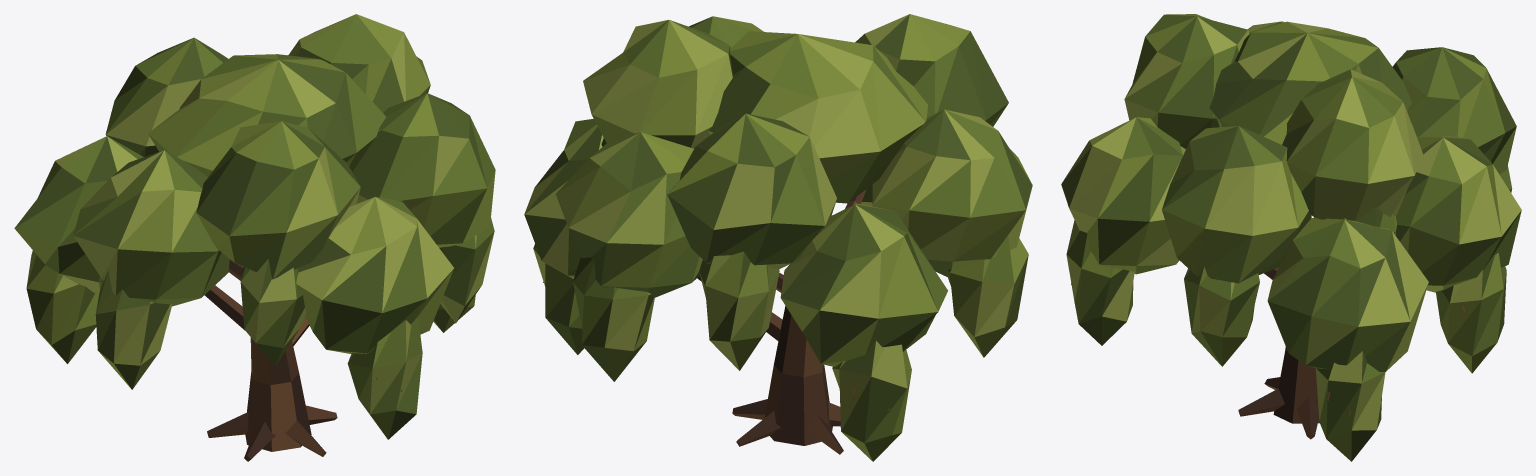
File: tree_willow_green.obj
3 renders of one model, left to right at view 1: azimuth 30°, elevation 25°; view 2: azimuth 150°, elevation 25°; view 3: azimuth 270°, elevation 25°, orthographic. The views are drawn at different scales.
Parts seen in each view (by area): view 1: tree_willow_green; view 2: tree_willow_green; view 3: tree_willow_green.
Boxes of the visible parts, x1,y1,x2,y2 form: tree_willow_green: [14, 14, 495, 461]; tree_willow_green: [524, 14, 1032, 461]; tree_willow_green: [1061, 14, 1521, 461].
Size of the model in its own units: 596 by 500 by 542.
Materials: 1 (1 with a texture image).
